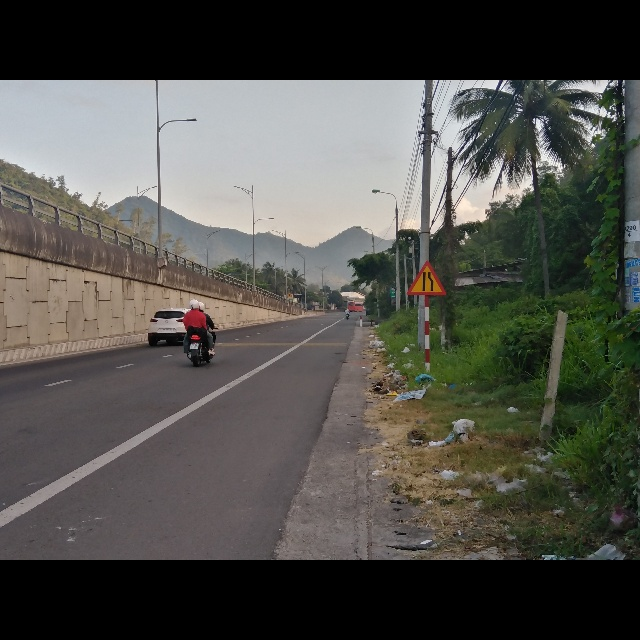Đường bị hẹp bên phải: (406, 261, 446, 296)
